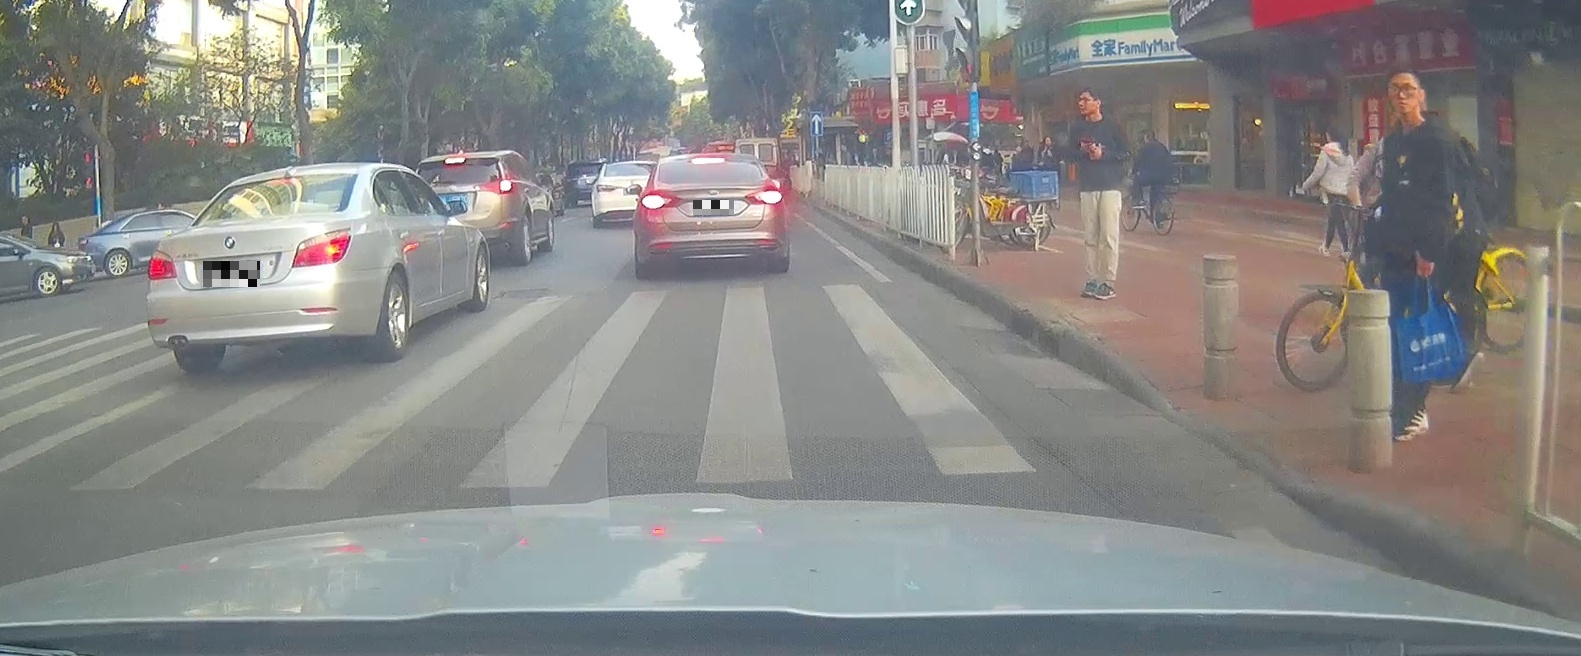L_light: (147, 249, 177, 280), (640, 192, 679, 209)
R_light: (291, 227, 353, 268), (744, 185, 783, 205)
T_light: (268, 177, 291, 185), (691, 159, 726, 164)
day-brake: (633, 153, 787, 277)
day-right: (145, 163, 363, 373)
plate_1: (203, 261, 260, 287)
plate_2: (693, 200, 734, 215)
